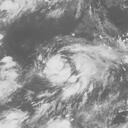cyclone: (44, 43, 115, 95)
